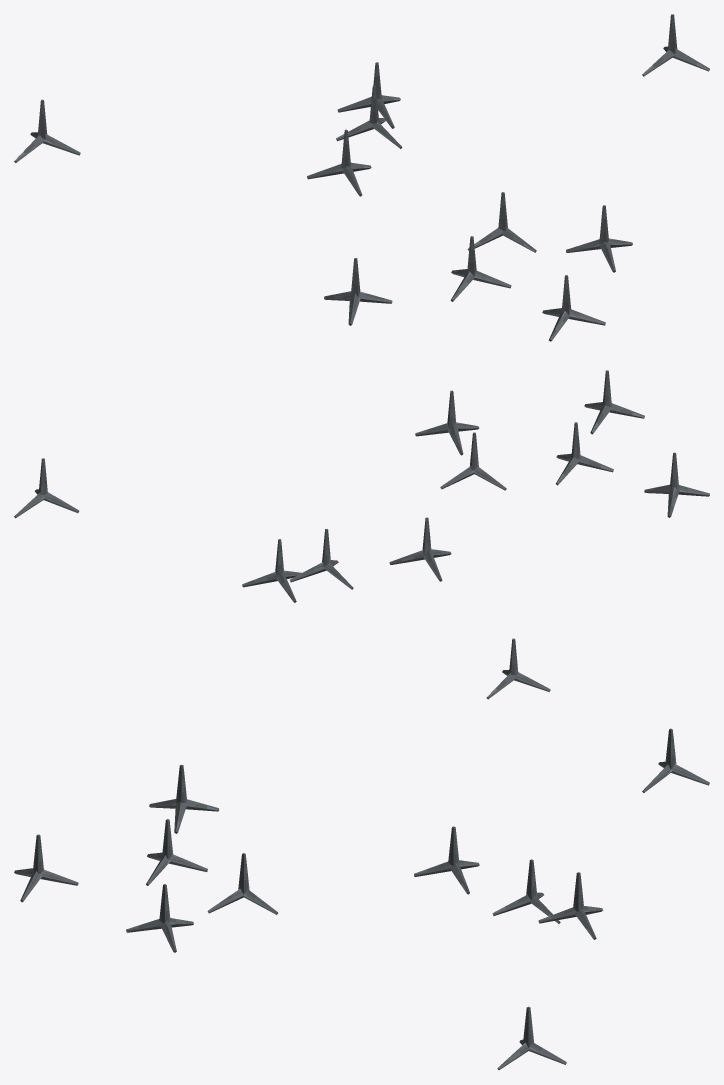
File: tr_caltrops.glb
3 views of the same model, one above another, from view 1: azimuth 30°, elevation 25°; view 2: azimuth 150°, elevation 25°; view 3: azimuth 270°, elevation 25° (orthographic). The views are drawn at different scales.
Size of the model in its own units: 0.7749 by 0.0617 by 0.7447.
Materials: 1 (1 with a texture image).
